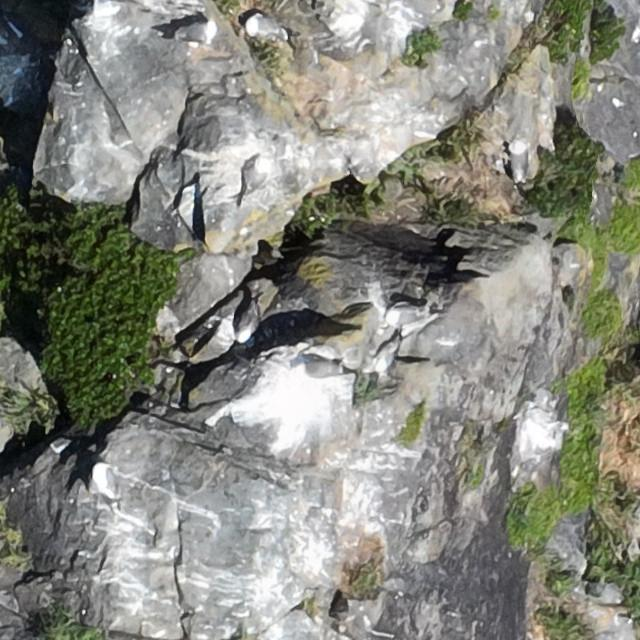umineko: (236, 292, 266, 344), (243, 16, 298, 44), (289, 356, 346, 380), (240, 156, 270, 195), (172, 18, 218, 43), (88, 464, 121, 498), (512, 137, 529, 181), (377, 341, 396, 369)
